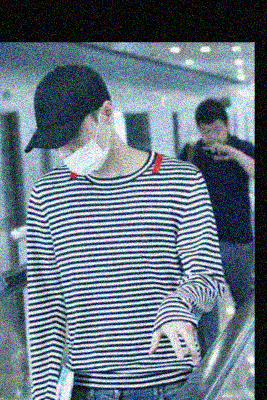mask_weared_incorrect: (53, 117, 106, 175)
without_mask: (198, 120, 227, 148)
